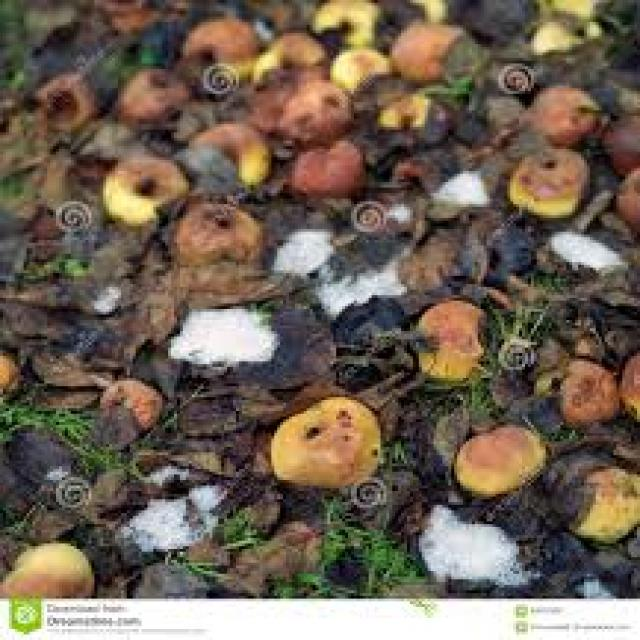organic waste: (266, 392, 378, 482), (540, 447, 637, 546), (407, 290, 487, 384), (383, 14, 484, 83), (97, 146, 186, 221), (448, 422, 543, 491), (528, 353, 619, 422), (165, 201, 266, 262), (180, 119, 268, 188), (268, 138, 363, 199), (528, 314, 596, 398), (504, 146, 590, 212), (271, 74, 354, 138), (112, 61, 195, 124), (0, 541, 91, 596), (248, 16, 333, 74), (522, 80, 602, 141), (174, 17, 260, 69), (325, 44, 398, 102), (369, 83, 445, 138), (306, 0, 383, 52), (27, 77, 106, 127), (94, 375, 162, 425), (74, 33, 138, 86), (581, 318, 637, 372), (212, 83, 283, 124), (522, 16, 602, 49), (94, 0, 182, 30), (593, 110, 637, 166), (611, 160, 637, 234), (616, 348, 637, 422), (0, 339, 29, 391), (534, 0, 599, 19), (401, 0, 448, 19)
